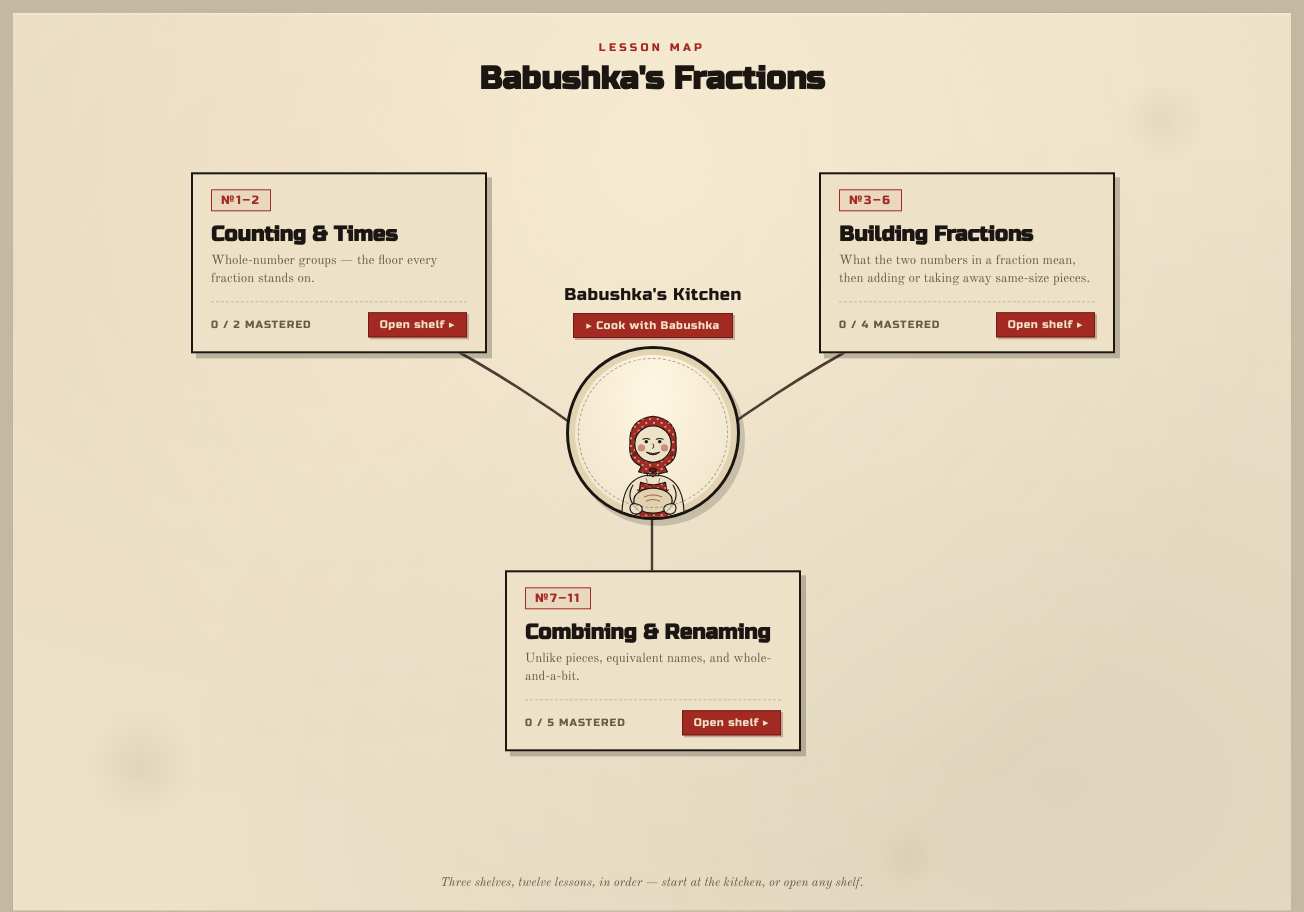
Test: WorldMap — two-level shelf/submenu rendering › shows "Cook again" badge on a lesson card inside a shelf
Click the button with class "shelf" that starts with "Counting & Times" at (339, 263), box [191,172,487,354]
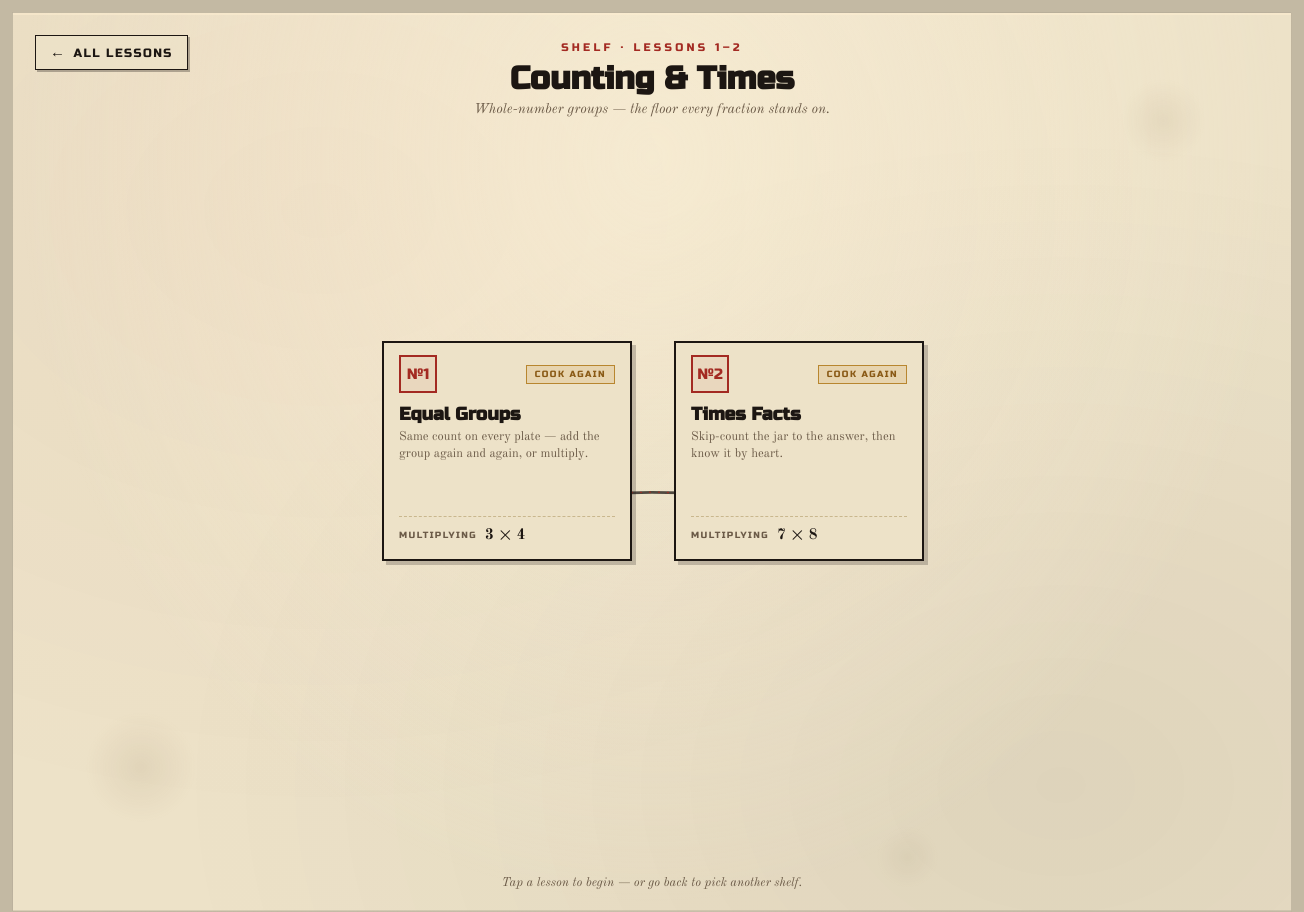
Now the 1st text "Cook again" is shown, box [526,364,615,384]
